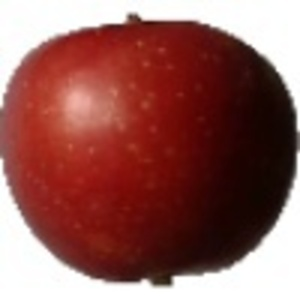maçã braeburn: (1, 12, 300, 286)
